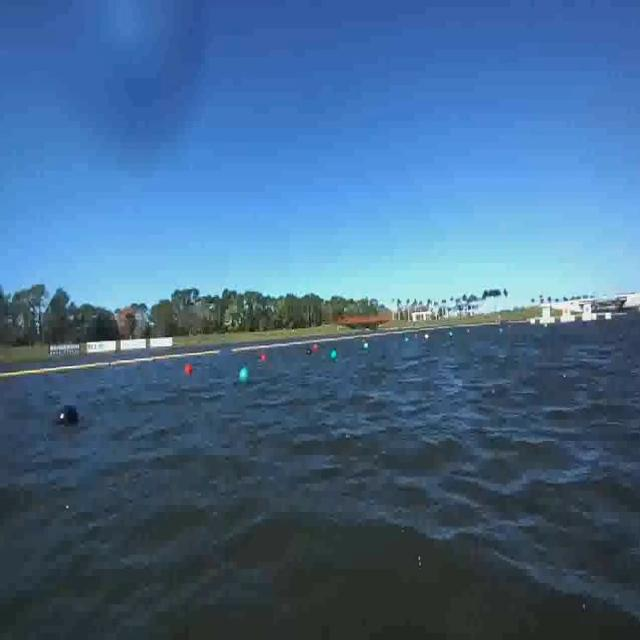black-buoy: (55, 406, 81, 427)
green-buoy: (236, 365, 248, 383), (330, 350, 337, 361)
red-buoy: (256, 352, 272, 367), (184, 363, 193, 375), (313, 344, 319, 352)
